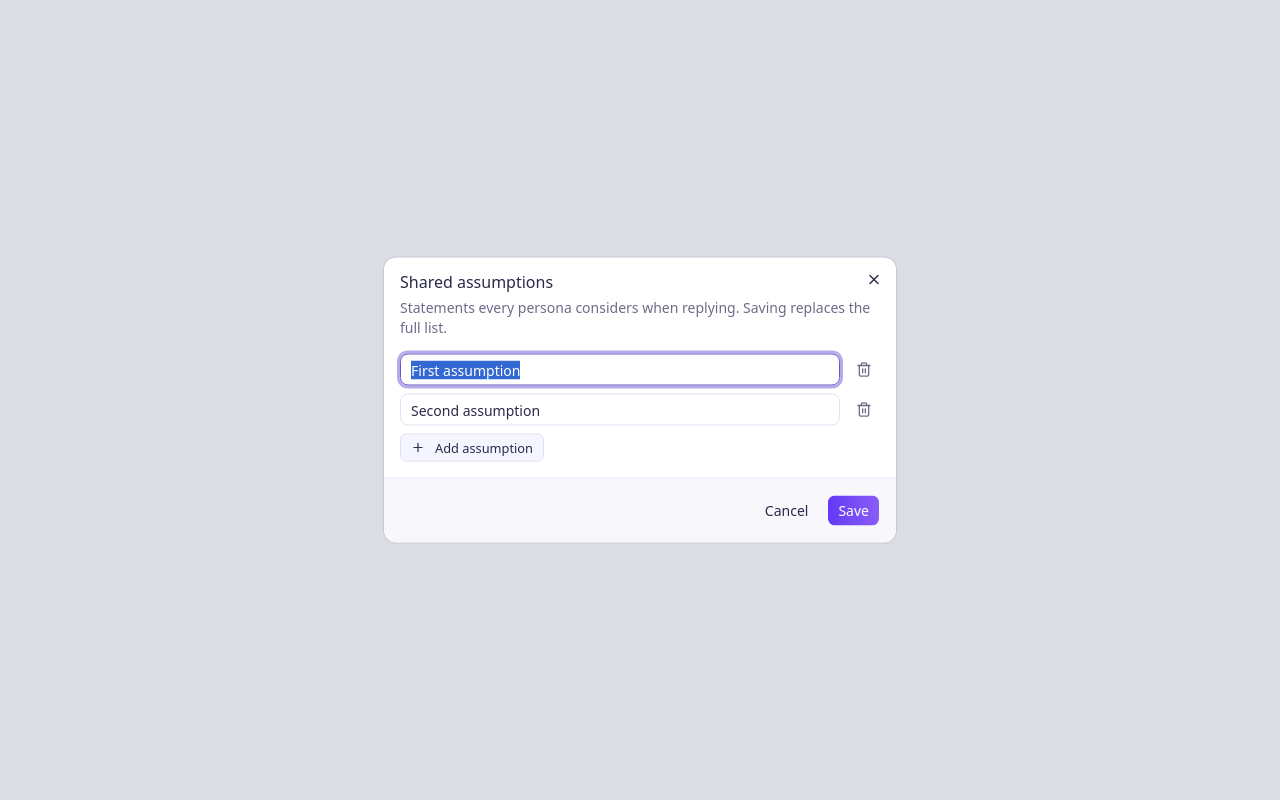
Test: AssumptionsDialog › removes an assumption row
This screenshot has width=1280, height=800.
Expected: the 1st field showing "First assumption" is shown, [400,354,840,386]
Click the 1st button named "Remove assumption" at (864,370), box [848,354,880,386]
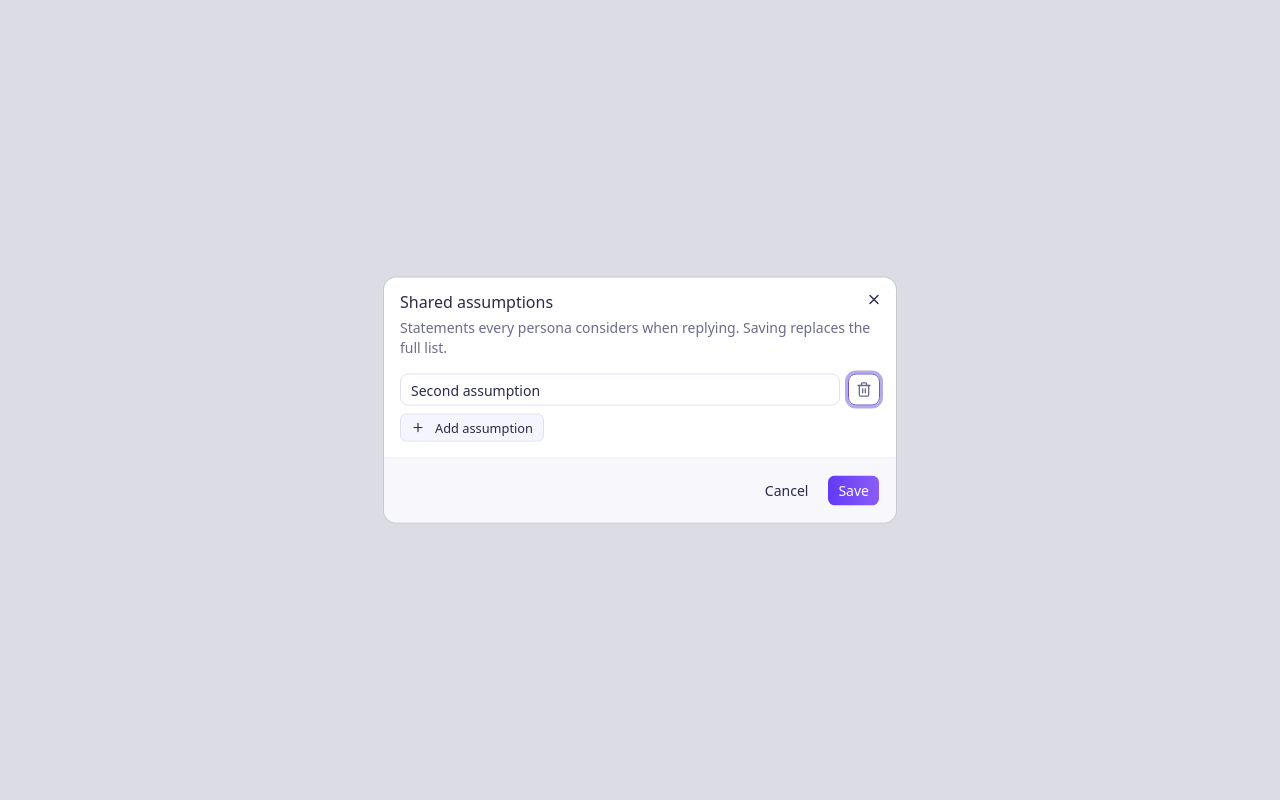
Expected: the field showing "First assumption" is not shown
Expected: the field showing "Second assumption" is shown, [400,374,840,406]
